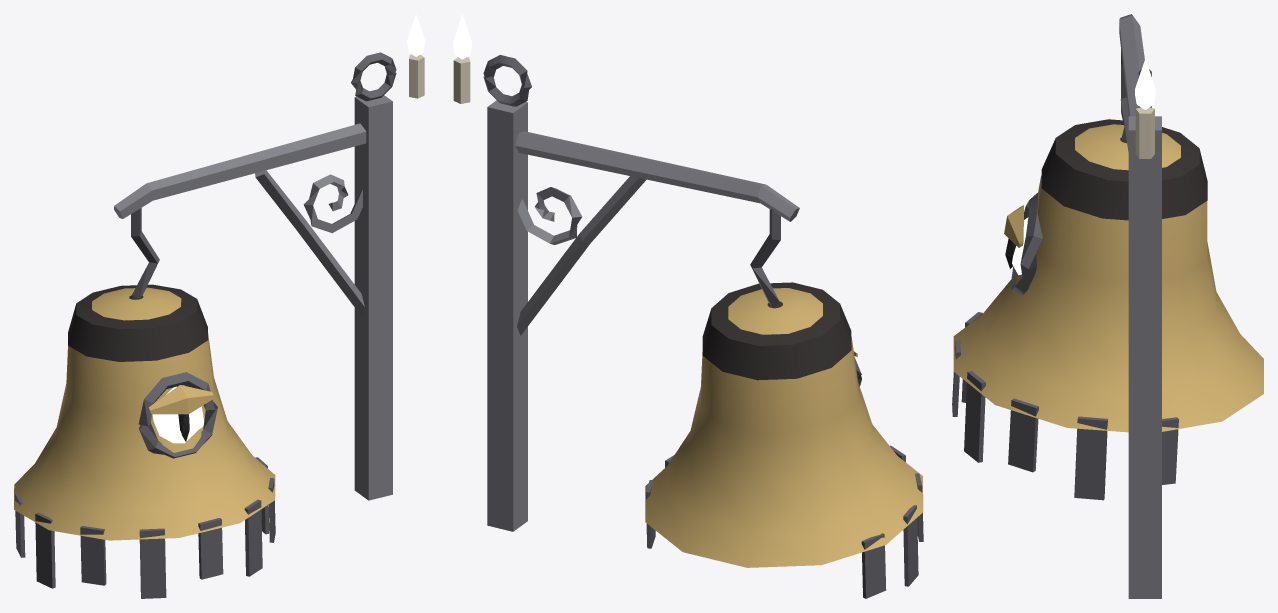
Rendered from bell-hearth-bell.glb.
The picture shows the model from 3 angles, left to right: view 1: azimuth 30°, elevation 25°; view 2: azimuth 150°, elevation 25°; view 3: azimuth 270°, elevation 25°; orthographic projection. The views are drawn at different scales.
Visible parts, largest first — view 1: bell_hearth_bell; view 2: bell_hearth_bell; view 3: bell_hearth_bell.
Boxes of the visible parts, left/top/right/bottom form: bell_hearth_bell: left=14, top=14, right=424, bottom=598; bell_hearth_bell: left=453, top=14, right=923, bottom=598; bell_hearth_bell: left=952, top=14, right=1263, bottom=598.
Bounding box in the file's own units: 0.783 × 0.857 × 0.4341.
